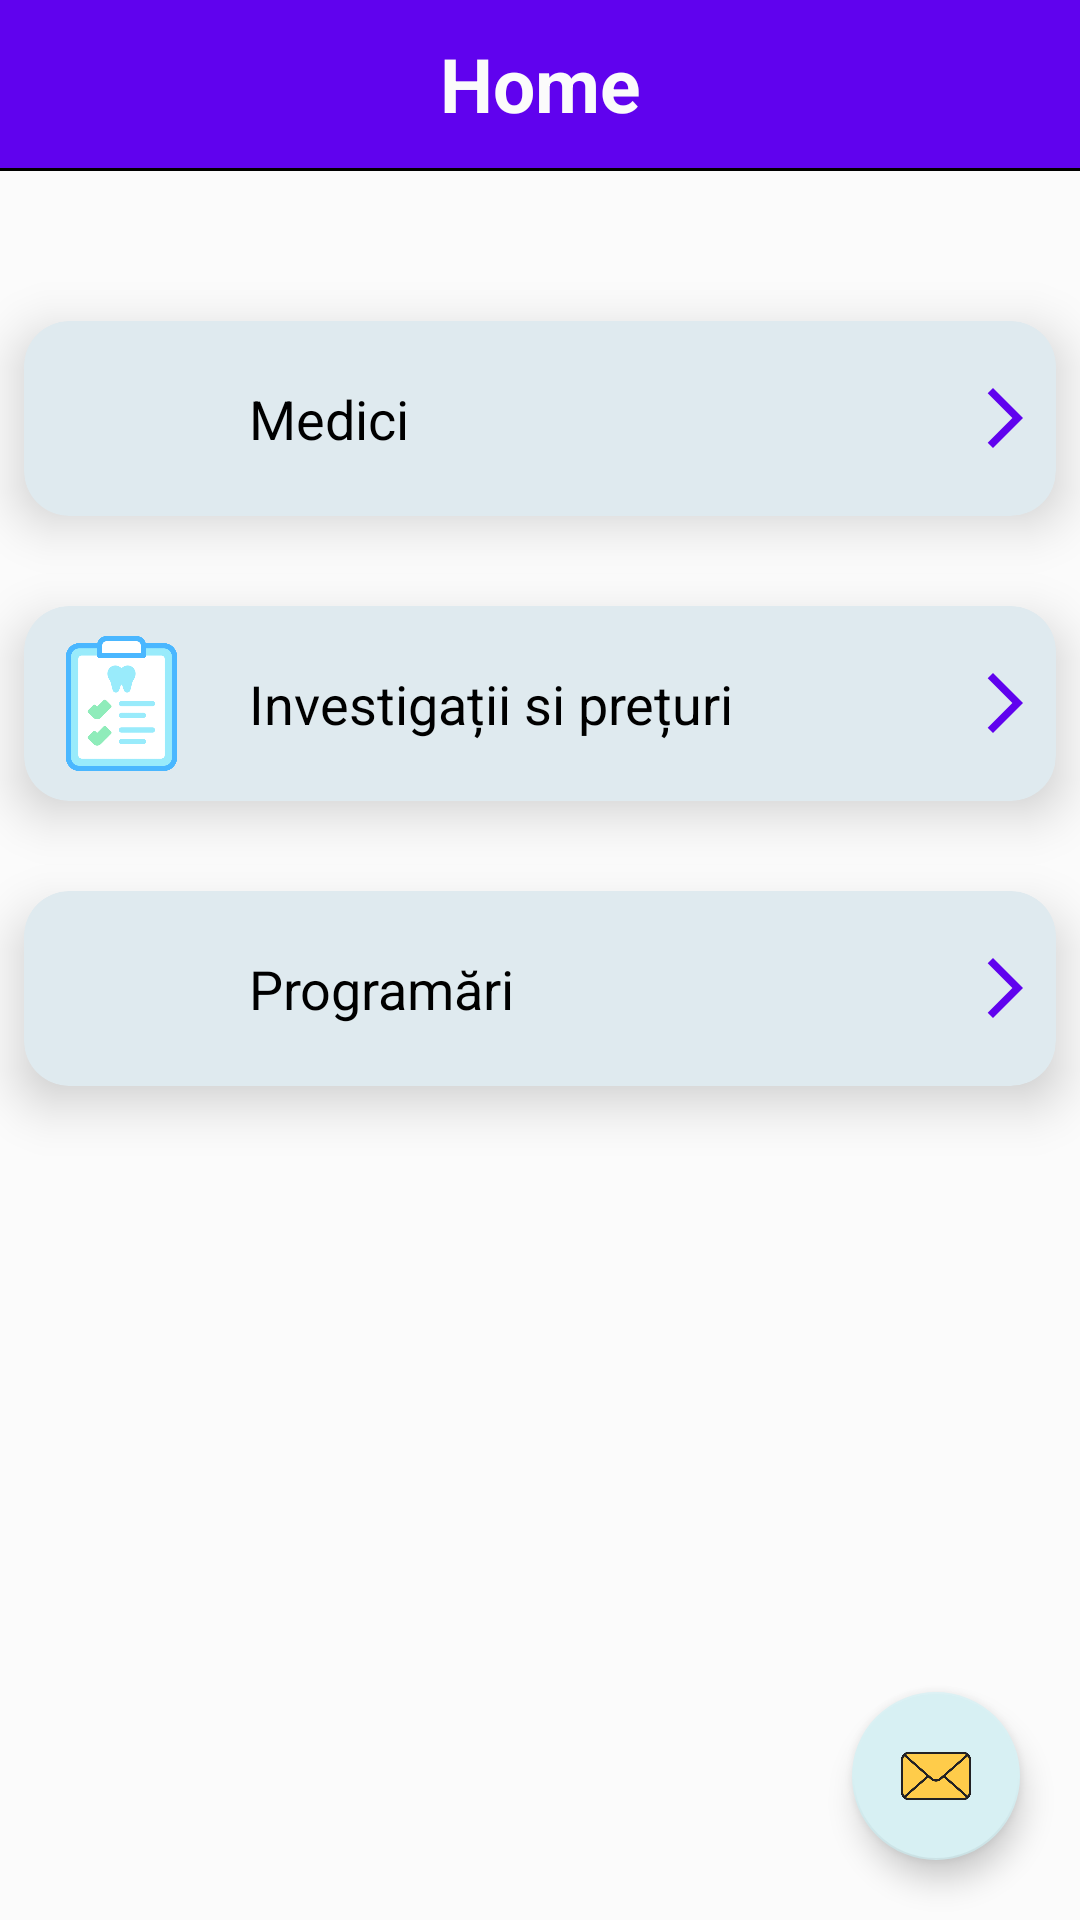

Locate icon controls on the screen. Image size 1080 × 1920, boxes as (left=x1, top=y1, right=x2, bottom=y2).
arrow right: (left=988, top=388, right=1023, bottom=448), (left=988, top=673, right=1023, bottom=733), (left=988, top=958, right=1023, bottom=1018)
Chat: (left=852, top=1692, right=1020, bottom=1860)
service: (left=66, top=636, right=177, bottom=771)
